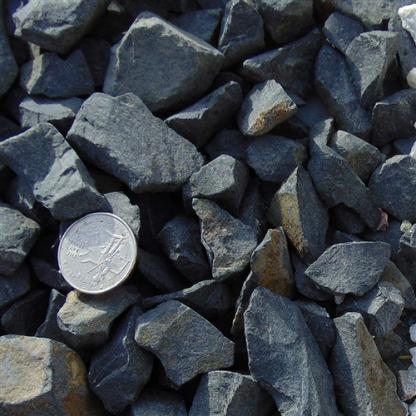Igneous_Basalt: (65, 87, 197, 198), (236, 284, 324, 414), (101, 10, 226, 98), (130, 289, 239, 387), (14, 116, 93, 210), (4, 323, 79, 415), (326, 13, 410, 92), (305, 221, 393, 296), (271, 160, 331, 250), (245, 69, 303, 135), (0, 196, 50, 260)
